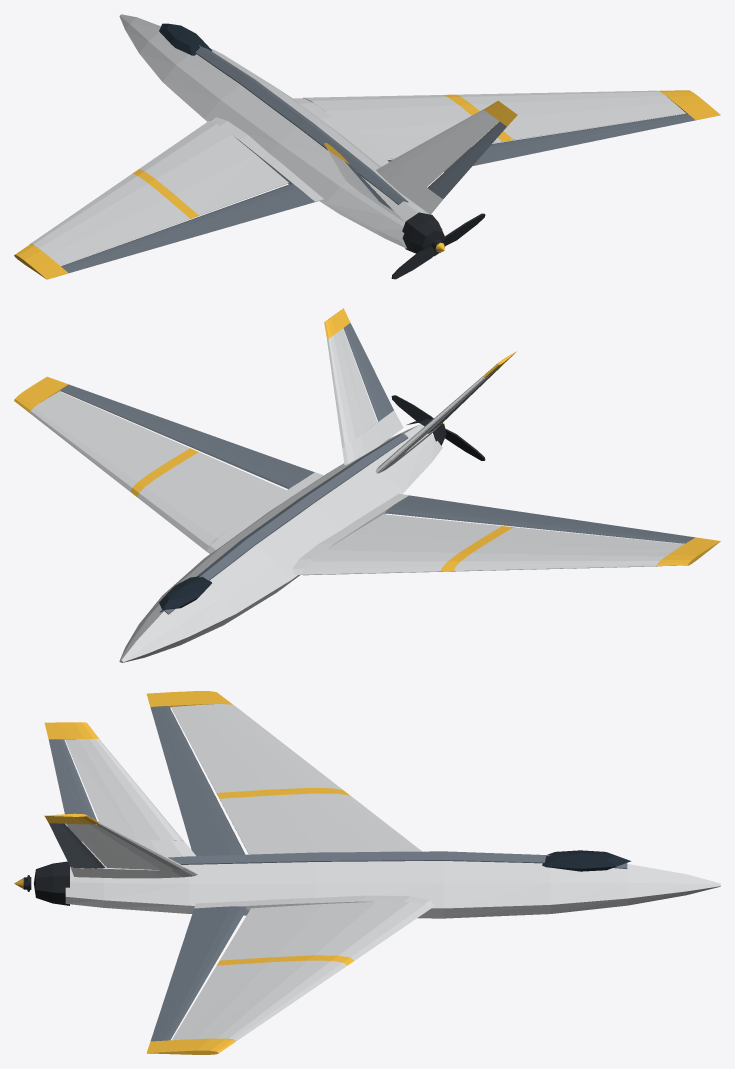
File: plane-CH3pcWFx.glb
3 renders of one model, top to bottom at view 1: azimuth 30°, elevation 25°; view 2: azimuth 150°, elevation 25°; view 3: azimuth 270°, elevation 25°, orthographic. The views are drawn at different scales.
Visible parts, largest first — view 1: Body, Trim, Mid, AileronRightMid, FlapLeftMid, AileronLeftMid, RuddervatorRightMid, Dark, PropellerDark, Glass, FlapRightMid; view 2: Body, Trim, Mid, FlapRightMid, AileronRightMid, AileronLeftMid, FlapLeftMid, RuddervatorRightMid, Glass, PropellerDark; view 3: Body, Trim, Mid, AileronLeftMid, FlapLeftMid, FlapRightMid, AileronRightMid, RuddervatorLeftMid, Glass, Dark, RuddervatorRightMid.
Part boxes in pixels (box(x1,y1,x2,y2)): Body: box(30, 14, 685, 265); Trim: box(14, 90, 720, 279); Mid: box(195, 45, 408, 204); AileronRightMid: box(504, 113, 695, 155); FlapLeftMid: box(201, 183, 314, 229); AileronLeftMid: box(61, 216, 217, 272); RuddervatorRightMid: box(427, 121, 506, 198); Dark: box(402, 212, 444, 256); PropellerDark: box(391, 213, 485, 279); Glass: box(159, 23, 211, 55); FlapRightMid: box(387, 142, 521, 171); Body: box(30, 328, 684, 662); Trim: box(14, 308, 720, 571); Mid: box(159, 433, 408, 614); FlapRightMid: box(200, 438, 314, 489); AileronRightMid: box(60, 384, 217, 450); AileronLeftMid: box(503, 512, 694, 543); FlapLeftMid: box(385, 495, 520, 525); RuddervatorRightMid: box(343, 323, 393, 421); Glass: box(159, 576, 211, 609); PropellerDark: box(391, 395, 485, 460); Body: box(65, 704, 720, 1041); Trim: box(44, 691, 354, 1054); Mid: box(104, 851, 627, 868); AileronLeftMid: box(150, 706, 216, 798); FlapLeftMid: box(177, 797, 245, 855); FlapRightMid: box(177, 906, 247, 960); AileronRightMid: box(150, 959, 216, 1041); RuddervatorLeftMid: box(49, 739, 96, 841); Glass: box(542, 850, 631, 871); Dark: box(33, 861, 69, 905); RuddervatorRightMid: box(49, 823, 105, 868).
Size of the model in its own units: 2 by 0.3632 by 1.66.
